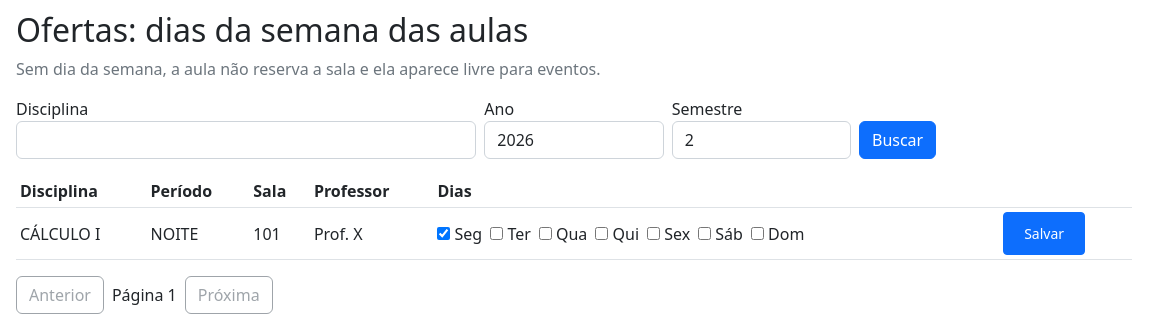
marca os dias de uma oferta e salva (item 5: sem dia a aula não bloqueia sala)
Expected: the checkbox labelled "Seg" is checked, [437,227,450,240]
Click the checkbox labelled "Qua". click: click(545, 233)
box: [539,227,552,240]
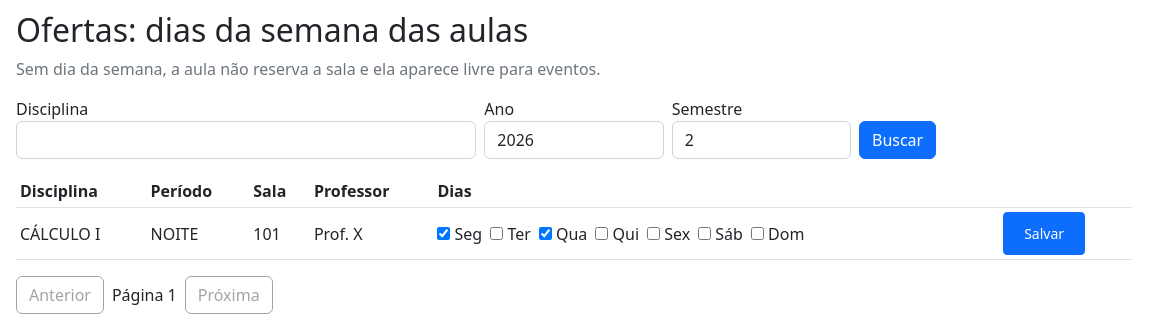
Click the button "Salvar". click: click(1044, 234)
box: [1003,212,1085,255]
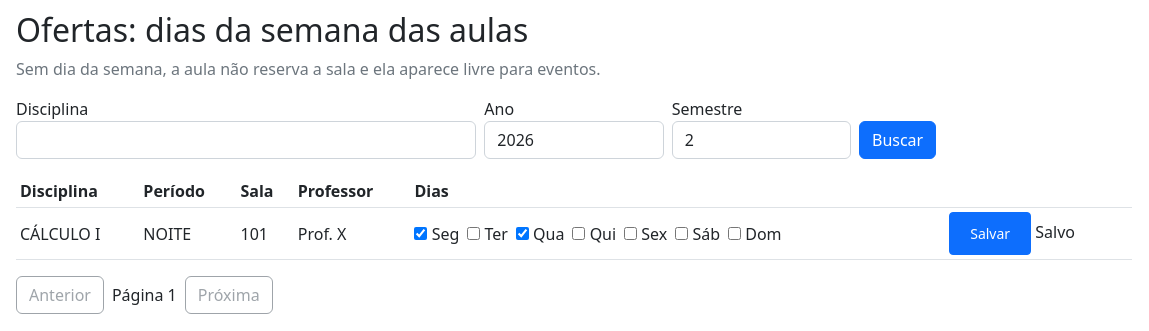
Expected: the text "Salvo" is shown, [1035,221,1075,243]
